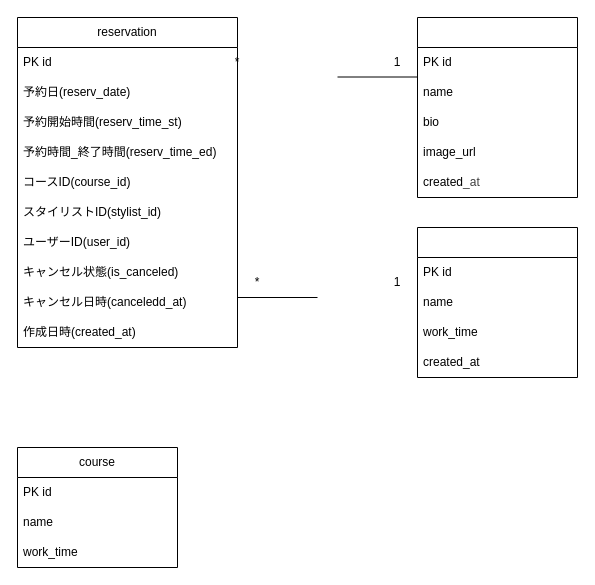
The diagram is 595 pixels wide and 585 high, and some of its shapes have lost their labels. Each missing label, with the box of its shape:
courses: (416, 226, 578, 378)
stylists: (416, 16, 578, 198)
